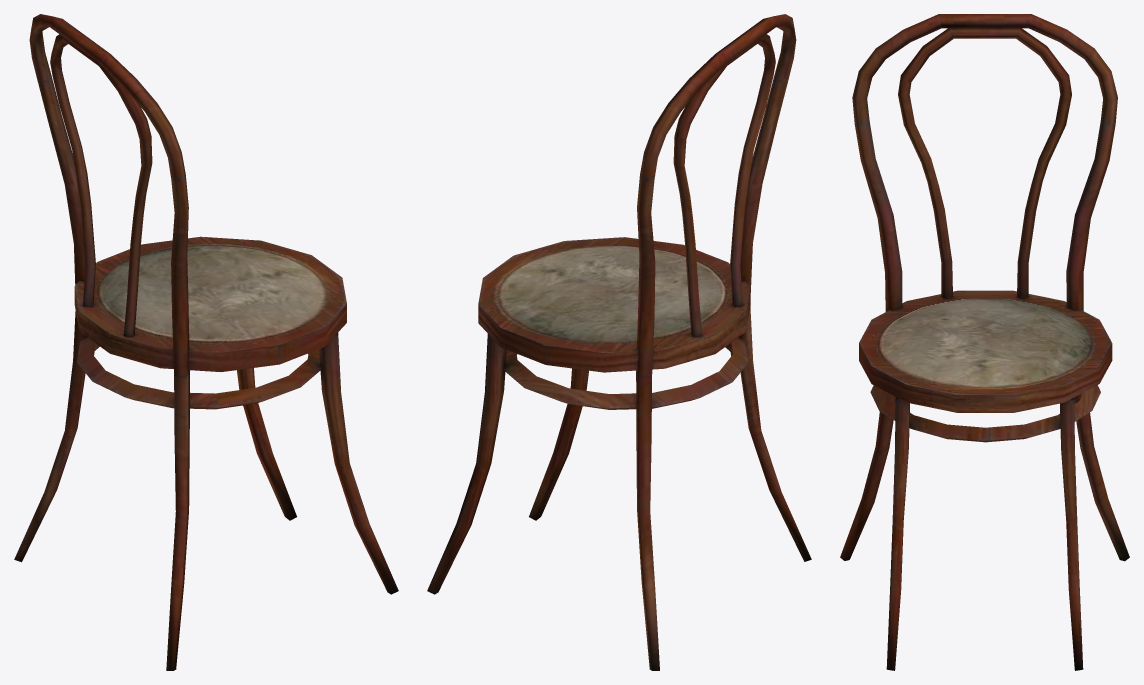
The model's file is furniture_chair01a.glb.
3 views of the same model, side by side, from view 1: azimuth 30°, elevation 25°; view 2: azimuth 150°, elevation 25°; view 3: azimuth 270°, elevation 25° (orthographic). The views are drawn at different scales.
Visible parts, largest first — view 1: 0_furniture_chair01a; view 2: 0_furniture_chair01a; view 3: 0_furniture_chair01a.
Part boxes in pixels (x1,y1,x2,y2): 0_furniture_chair01a: [14, 14, 398, 670]; 0_furniture_chair01a: [427, 14, 811, 670]; 0_furniture_chair01a: [840, 14, 1129, 670].
Bounding box in the file's own units: 0.5187 × 1.07 × 0.5206.
1 material, 1 textured.
